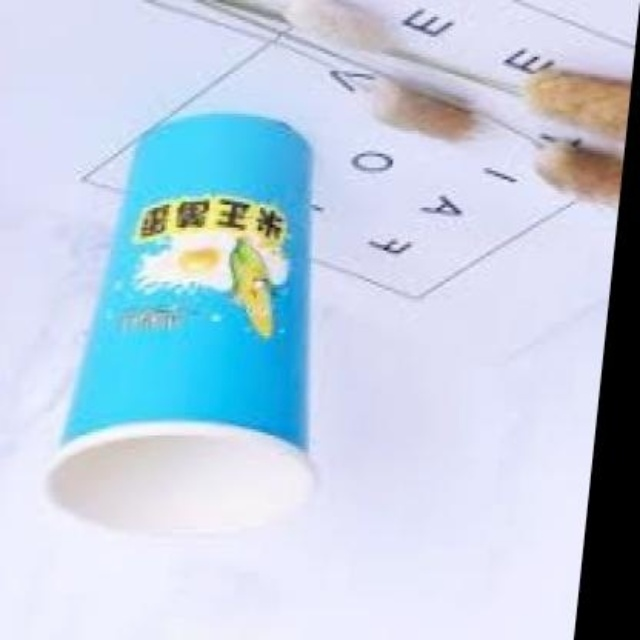trash: (51, 114, 311, 528)
